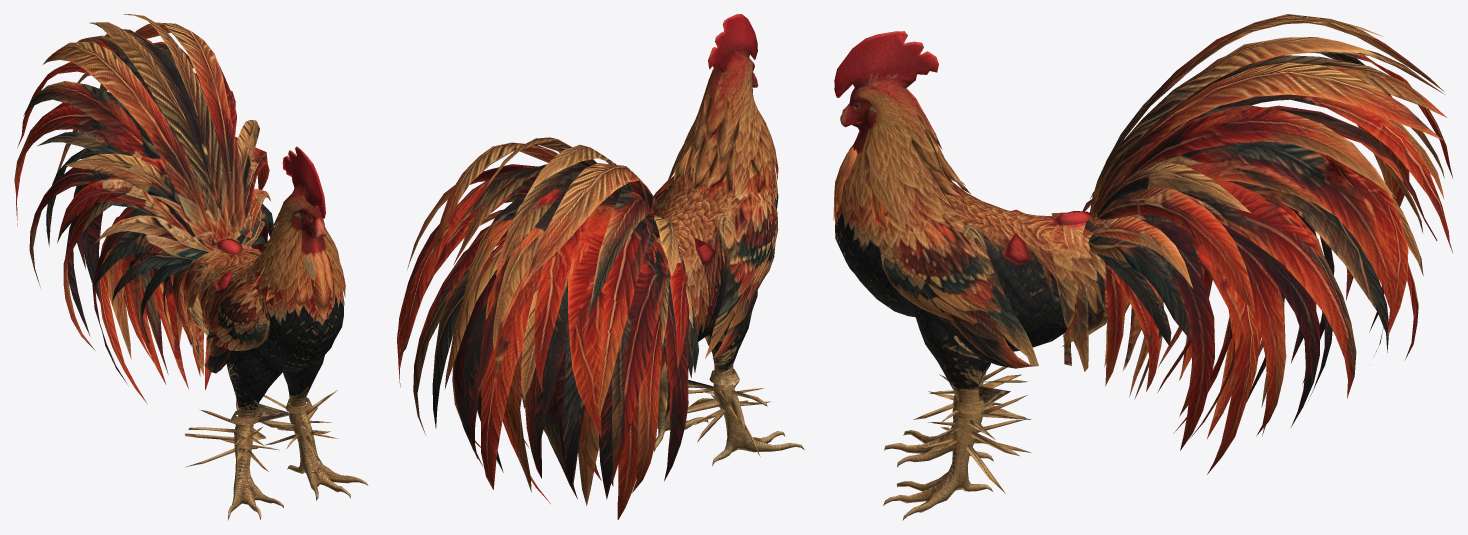
Rendered from Meshy_AI_Embercrest_Rooster_1005091925_texture.fbx.
3 renders of one model, left to right at view 1: azimuth 30°, elevation 25°; view 2: azimuth 150°, elevation 25°; view 3: azimuth 270°, elevation 25°, orthographic. The views are drawn at different scales.
Parts seen in each view (by area): view 1: Mesh_0; view 2: Mesh_0; view 3: Mesh_0.
Boxes of the visible parts, x1,y1,x2,y2 form: Mesh_0: (14,14,368,520); Mesh_0: (397,14,804,519); Mesh_0: (833,14,1452,520).
Bounding box in the file's own units: 1.77 × 3 × 3.74.
Materials: 1 (1 with a texture image).
